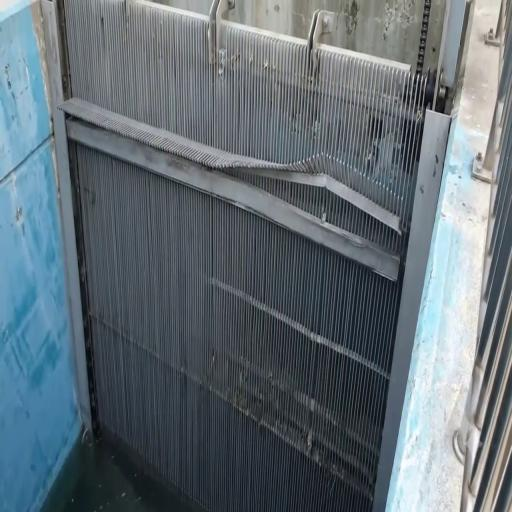rake_broken: (292, 152, 407, 221), (220, 154, 294, 189)
